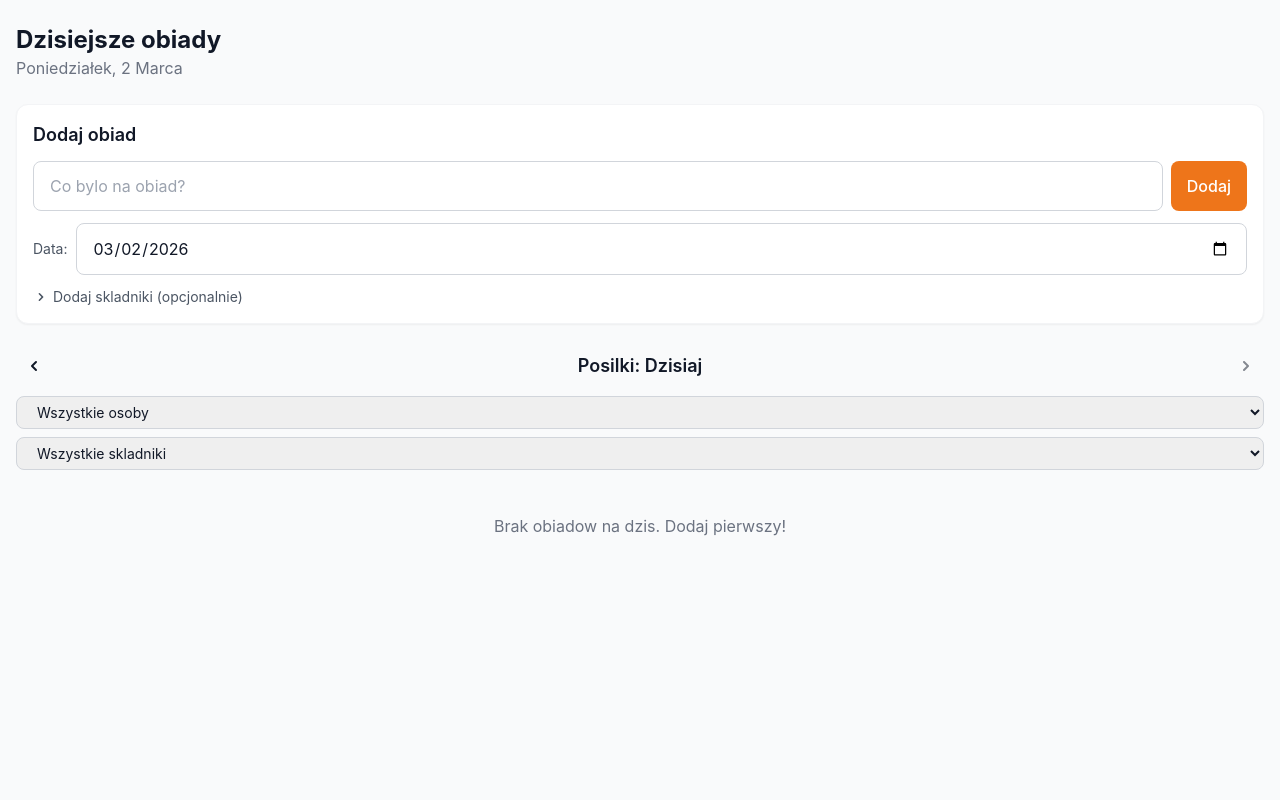
Test case: HomePage › with family members › shows rating buttons when family members exist
Type "Zupa" into the dropdown with placeholder "Co bylo na obiad?" at (598, 186), box left=33, top=161, right=1163, bottom=211
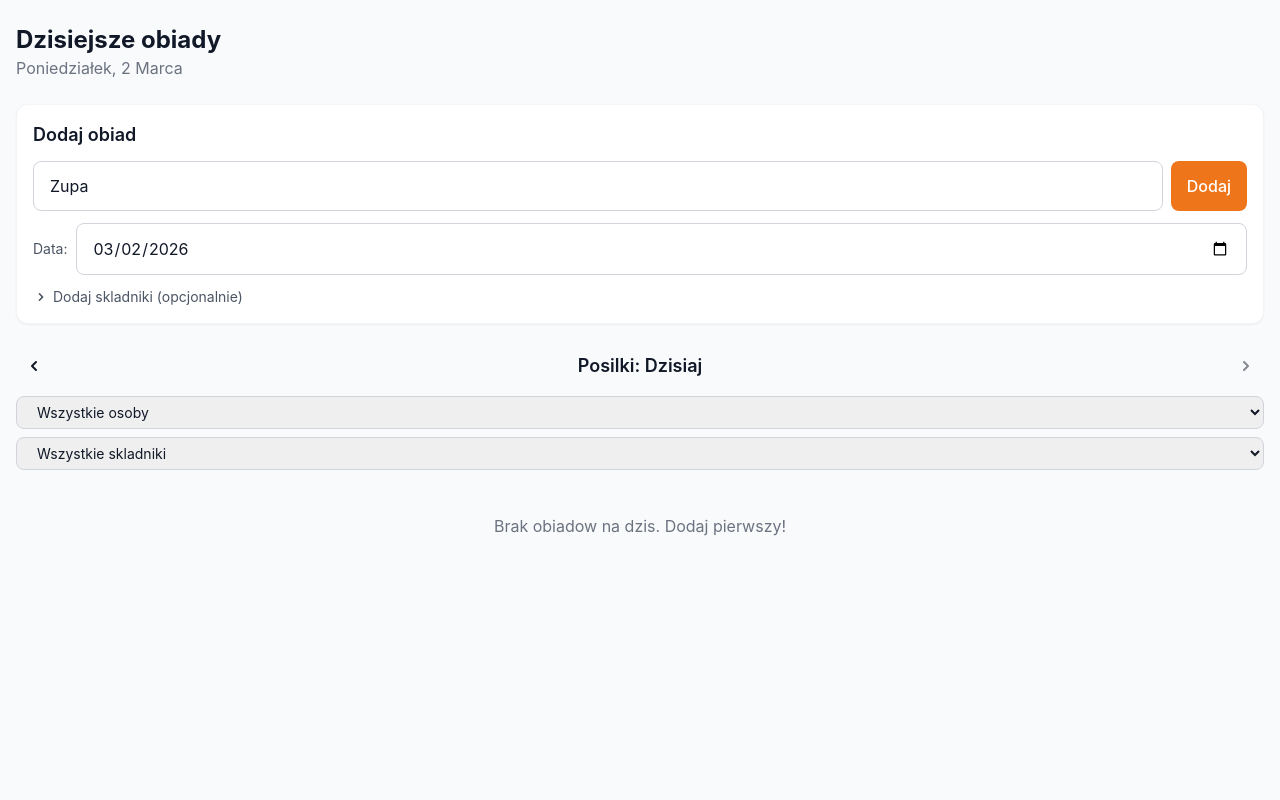
Click the button with aria-label "dodaj obiad" at (1209, 186), box left=1171, top=161, right=1247, bottom=211
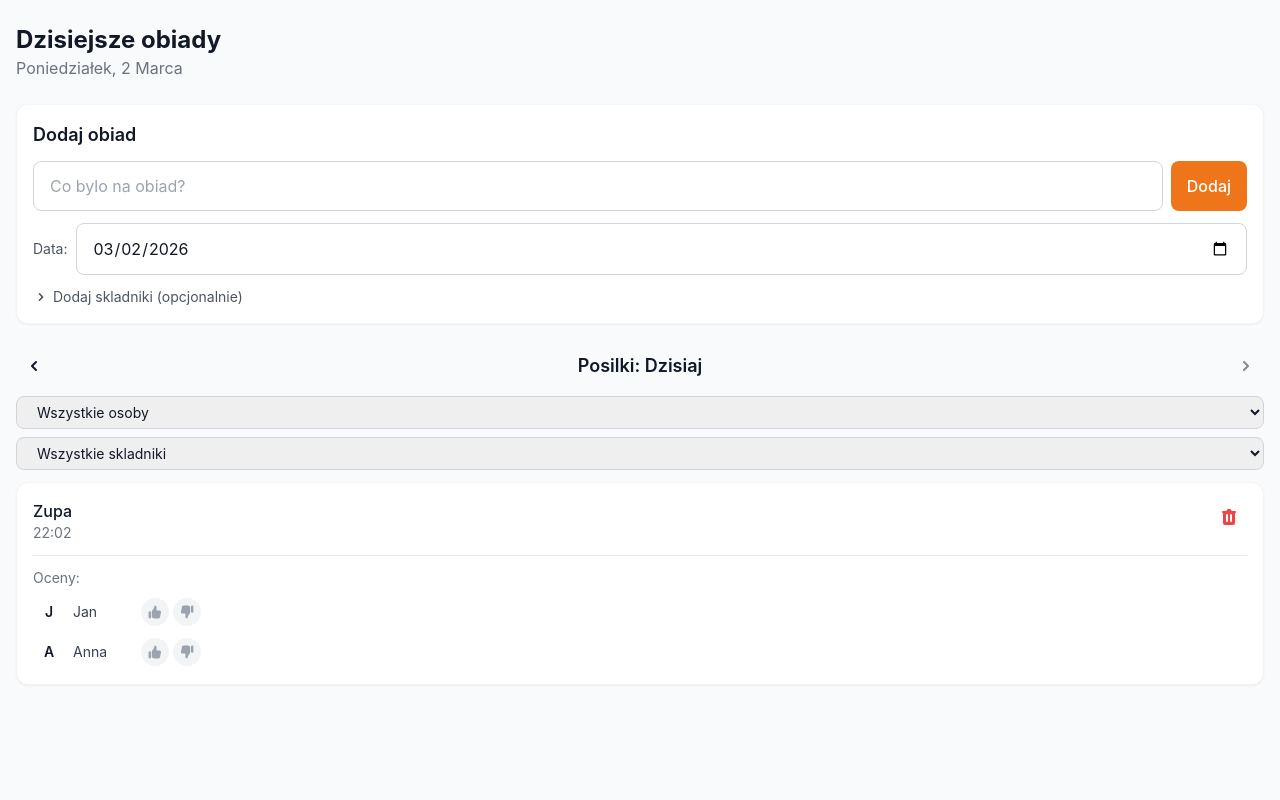
Expected: the text "Zupa" is shown, left=33, top=499, right=72, bottom=523
Expected: the text "Oceny:" is shown, left=33, top=569, right=80, bottom=586
Expected: the text "Jan" is shown, left=73, top=603, right=97, bottom=620
